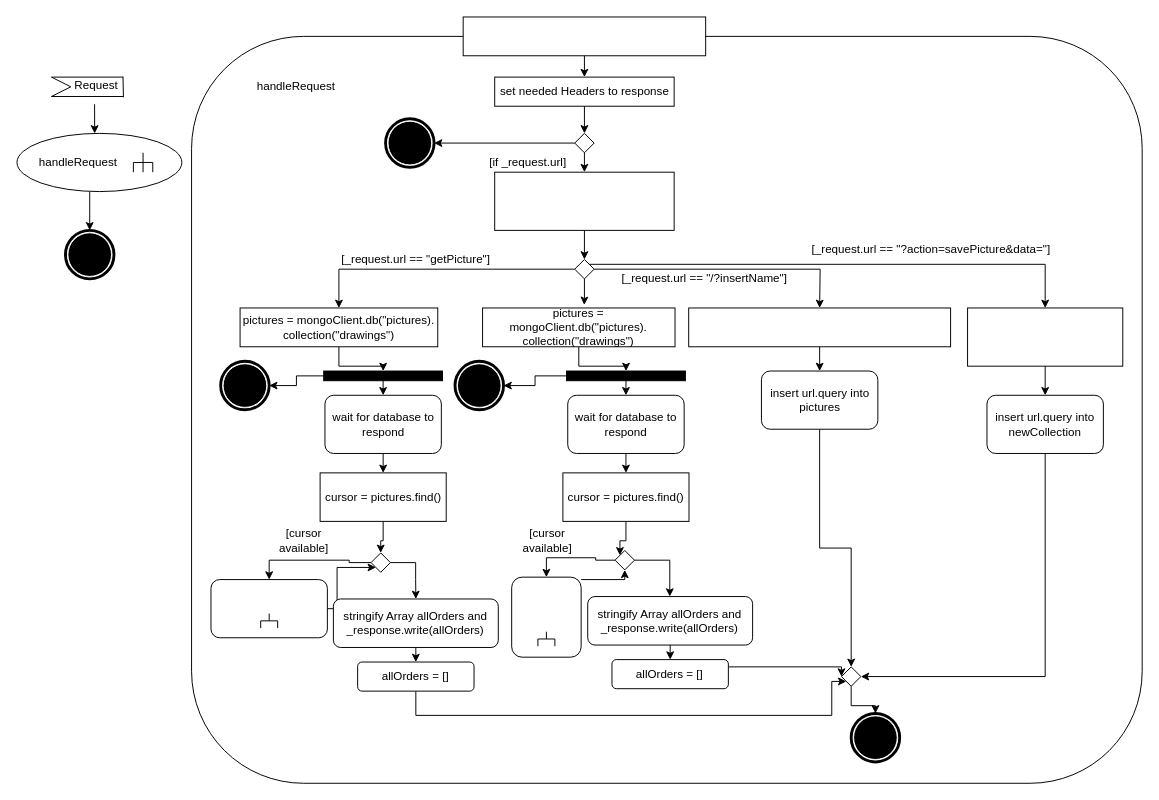
Some shapes in this 1159 by 800 pixel diagram are drawn without their labels. Here are the shapes that lost their labels. From the top down, the box of each, then its label:
(462, 16, 706, 56): _request: Http.IncomingMessage _response: Http.ServerResponse
(494, 171, 674, 230): url = Url.parse(_request.url) splitURL = _request.url.spliz("&")
(688, 307, 951, 347): pictures = mongoClient.db("pictures).collection("drawings")
(967, 307, 1123, 366): newCollection = mongoClient.db("pictures"). createCollection(splitURL[1])
(210, 579, 327, 638): showOrders(cursor)
(511, 576, 581, 657): showOrders (cursor)
